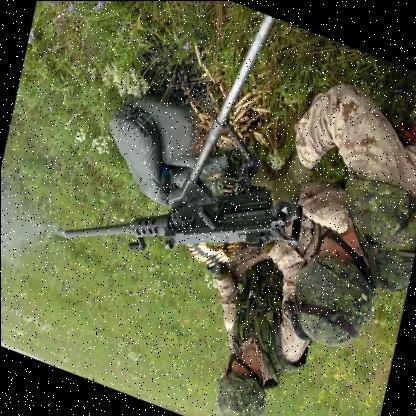rifle: (50, 110, 304, 320)
